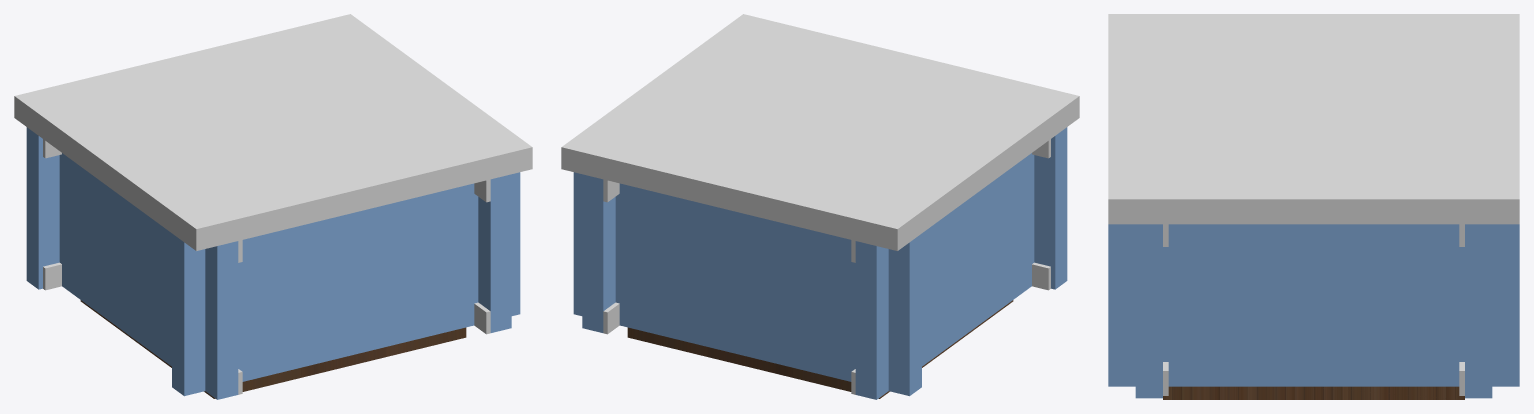
The model's file is room.glb.
The picture shows the model from 3 angles, left to right: view 1: azimuth 30°, elevation 25°; view 2: azimuth 150°, elevation 25°; view 3: azimuth 270°, elevation 25°; orthographic projection. The views are drawn at different scales.
Visible parts, largest first — view 1: Cube.001, Cube.005, Cube.002, Cube.003, Cube.004, Cube, Cube.010; view 2: Cube.001, Cube.004, Cube.002, Cube.003, Cube.005, Cube, Cube.012; view 3: Cube.001, Cube.003, Cube.004, Cube.005, Cube.
Part boxes in pixels (bbox=[...]): Cube.001: bbox=[14, 14, 532, 250]; Cube.005: bbox=[172, 172, 520, 396]; Cube.002: bbox=[59, 153, 238, 399]; Cube.003: bbox=[478, 174, 511, 332]; Cube.004: bbox=[26, 127, 59, 289]; Cube: bbox=[80, 300, 466, 398]; Cube.010: bbox=[43, 262, 61, 290]; Cube.001: bbox=[561, 14, 1079, 250]; Cube.004: bbox=[573, 172, 921, 396]; Cube.002: bbox=[855, 153, 1034, 399]; Cube.003: bbox=[582, 174, 615, 332]; Cube.005: bbox=[1034, 127, 1067, 289]; Cube: bbox=[627, 300, 1013, 398]; Cube.012: bbox=[1032, 262, 1050, 290]; Cube.001: bbox=[1108, 14, 1519, 224]; Cube.003: bbox=[1108, 224, 1519, 386]; Cube.004: bbox=[1465, 224, 1492, 398]; Cube.005: bbox=[1135, 224, 1162, 398]; Cube: bbox=[1163, 386, 1464, 399].
Size of the model in its own units: 16 by 9 by 15.
25 materials, 2 textured.
